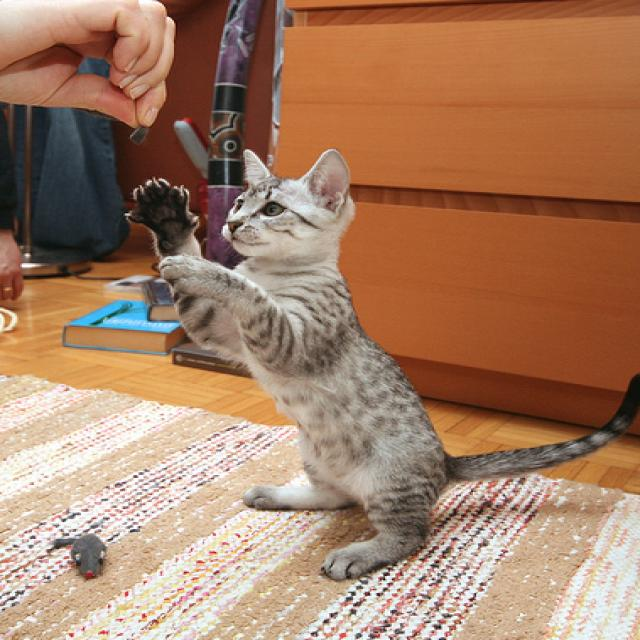Egyptian Mau: (118, 145, 640, 580)
